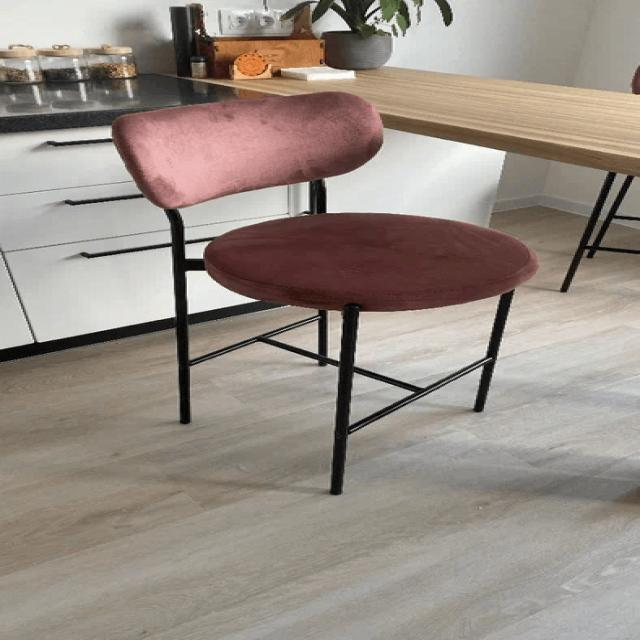chair: (100, 90, 540, 493), (120, 89, 534, 312)
